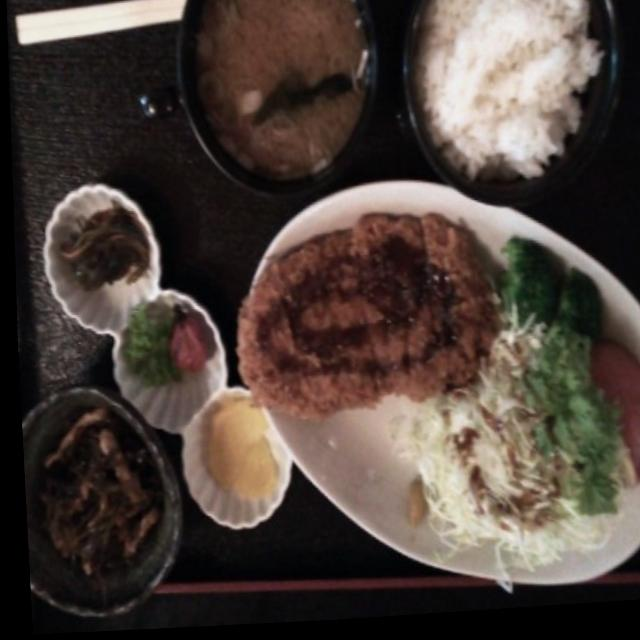米饭主食: (398, 0, 640, 220)
